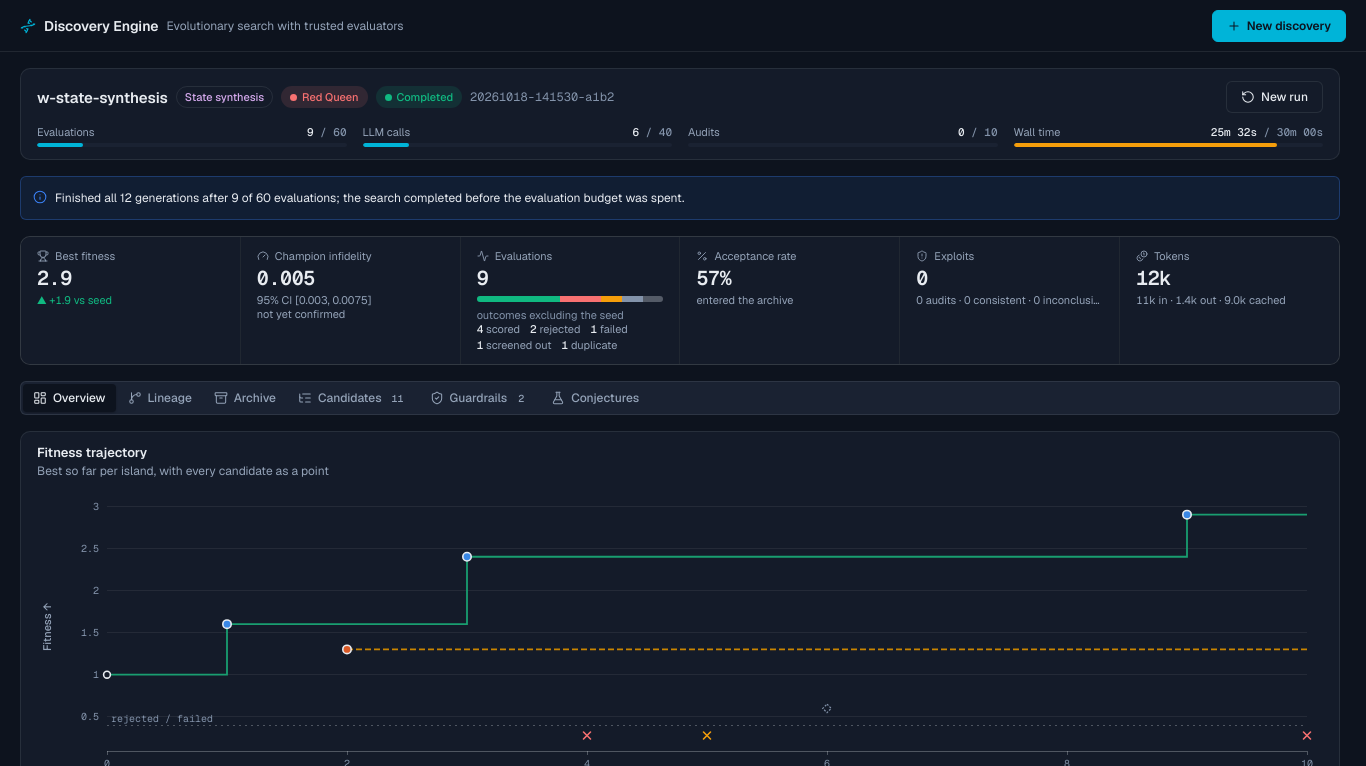
it: Guardrails tab for Red Queen runs › says "instructed", never "forbidden", and states what the sandbox blocks
Click the tab "Guardrails 2": click(479, 398) [420, 384, 539, 412]
(page scrolled)
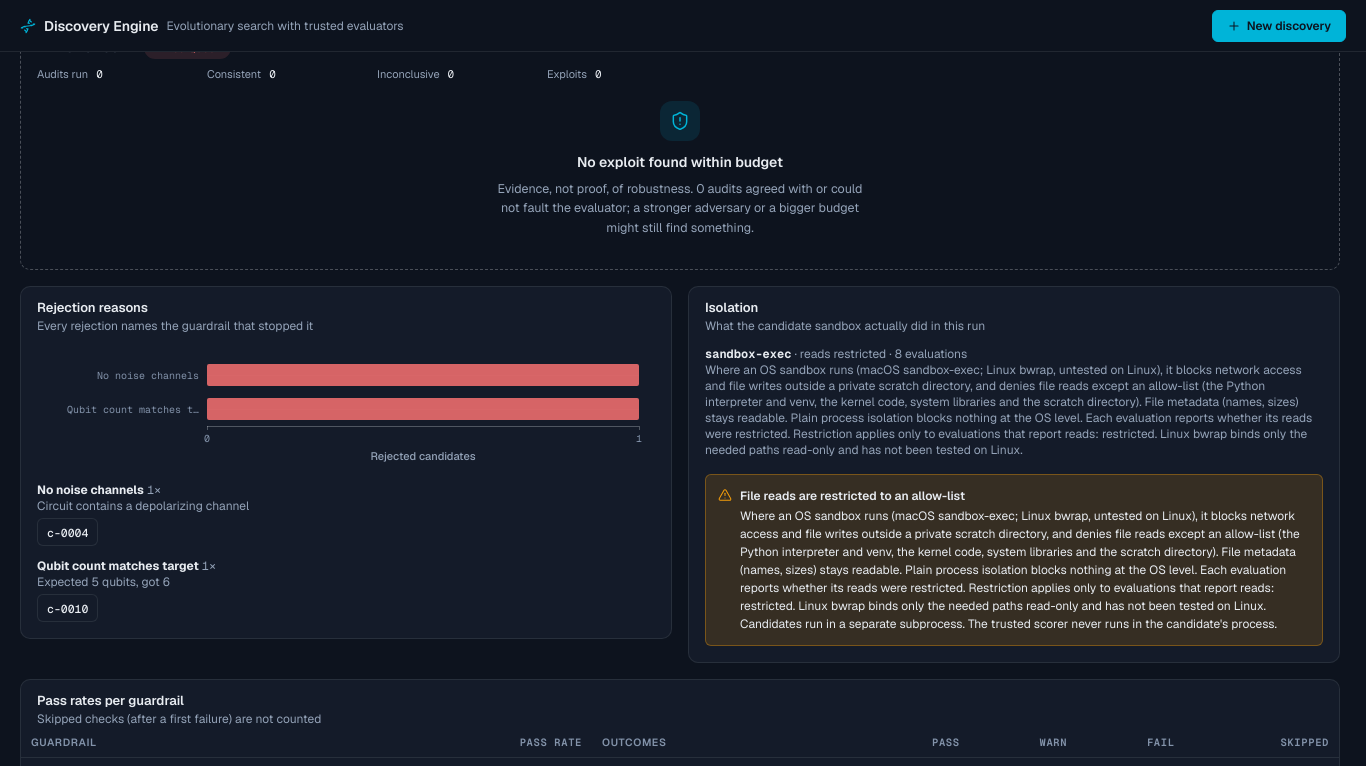
Now the text "denies file reads except an allow-list" shows "blocks network access and file writes outside a private scratch directory", box [705, 362, 1312, 458]
